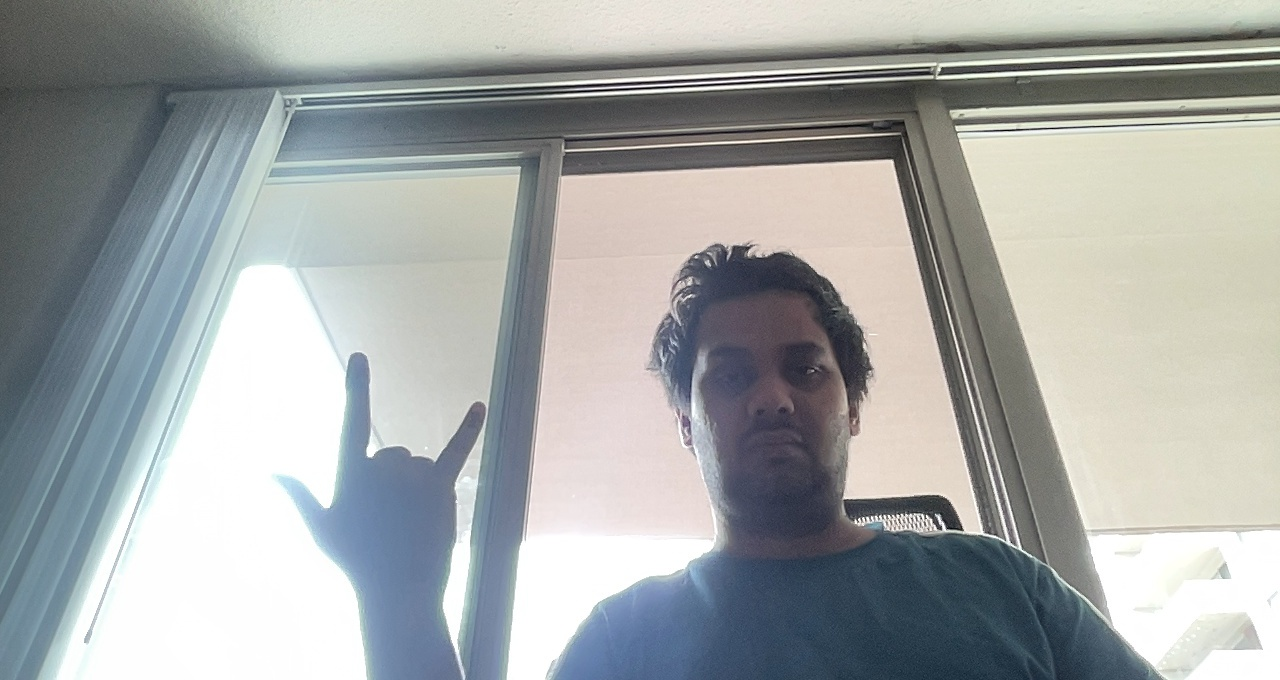rockon sign: (271, 346, 494, 624)
